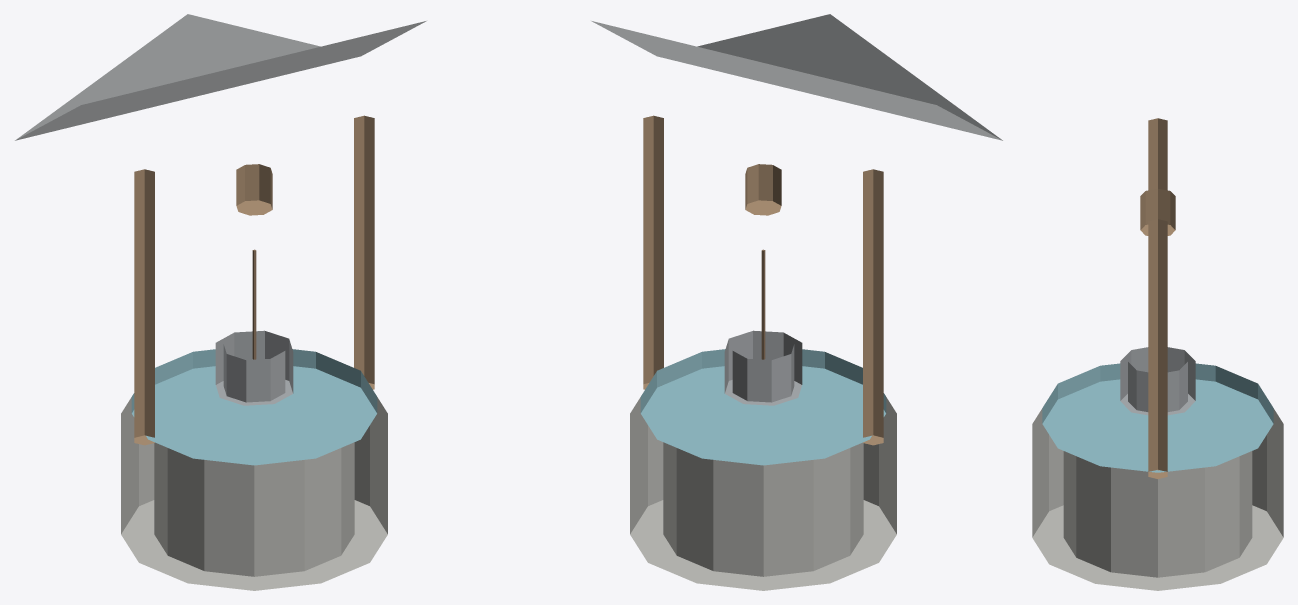
The model's file is well_sumur.glb.
The picture shows the model from 3 angles, left to right: view 1: azimuth 30°, elevation 25°; view 2: azimuth 150°, elevation 25°; view 3: azimuth 270°, elevation 25°; orthographic projection. The views are drawn at different scales.
Parts seen in each view (by area): view 1: well_sumur; view 2: well_sumur; view 3: well_sumur.
Boxes of the visible parts, x1,y1,x2,y2 form: well_sumur: [15, 14, 426, 590]; well_sumur: [591, 14, 1002, 590]; well_sumur: [1032, 118, 1283, 590].
Bounding box in the file's own units: 3 × 3.9 × 2.
